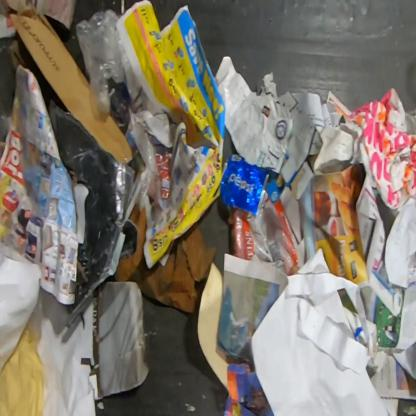cardboard: (8, 6, 137, 166), (114, 202, 218, 314)
metal: (220, 153, 270, 215)
rigid_plastic: (19, 294, 42, 341)
soft_plastic: (76, 8, 131, 118), (232, 200, 298, 274), (0, 113, 12, 159)
